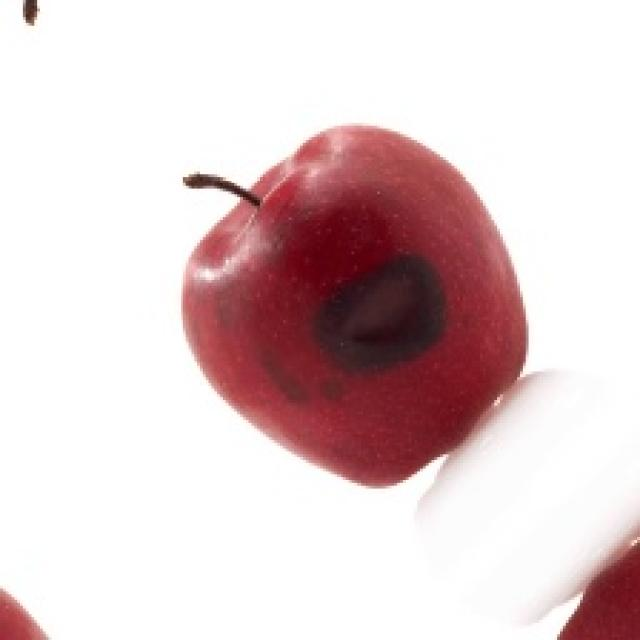rotten_apple: (184, 127, 522, 485)
